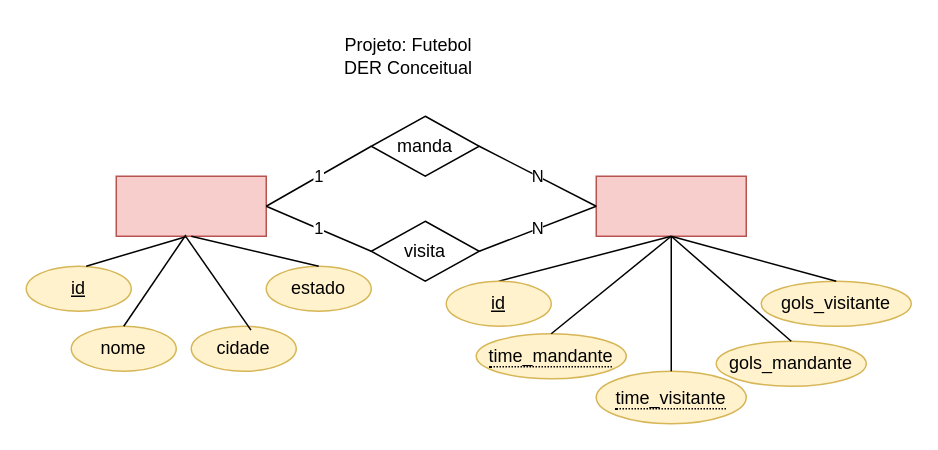
This 938x450 diagram has some shape labels left out. The box of each missing label's shape, as (x1, y1, x2, y2) in pixels:
Jogos: (595, 175, 746, 236)
Times: (115, 175, 266, 236)
